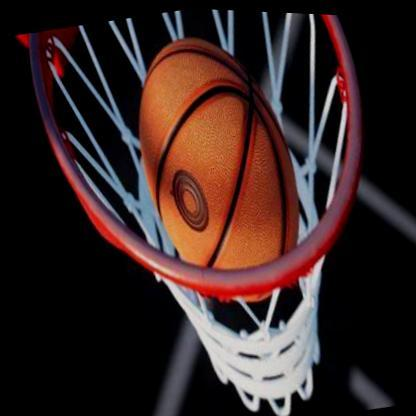basketball: (108, 19, 324, 315)
